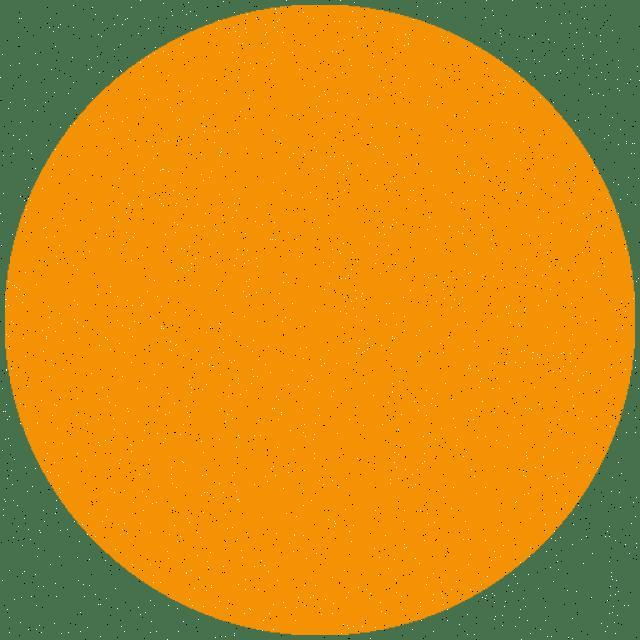Circle: (4, 5, 639, 634)
